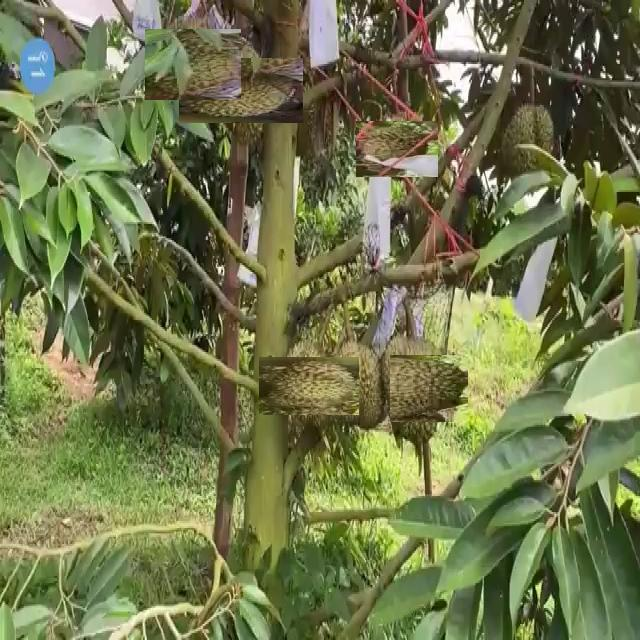durian: (194, 42, 288, 138), (366, 343, 457, 434), (151, 22, 235, 106), (327, 334, 390, 442), (269, 346, 348, 426), (498, 94, 559, 185), (362, 115, 432, 184)
